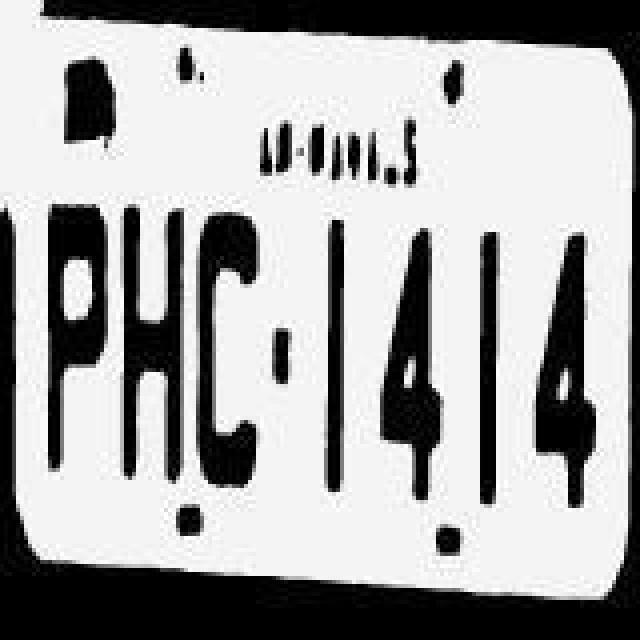1: (312, 206, 360, 490), (464, 224, 512, 504)
4: (528, 206, 608, 514), (376, 218, 456, 502)
C: (192, 206, 272, 498)
H: (114, 208, 190, 488)
P: (40, 190, 120, 482)
